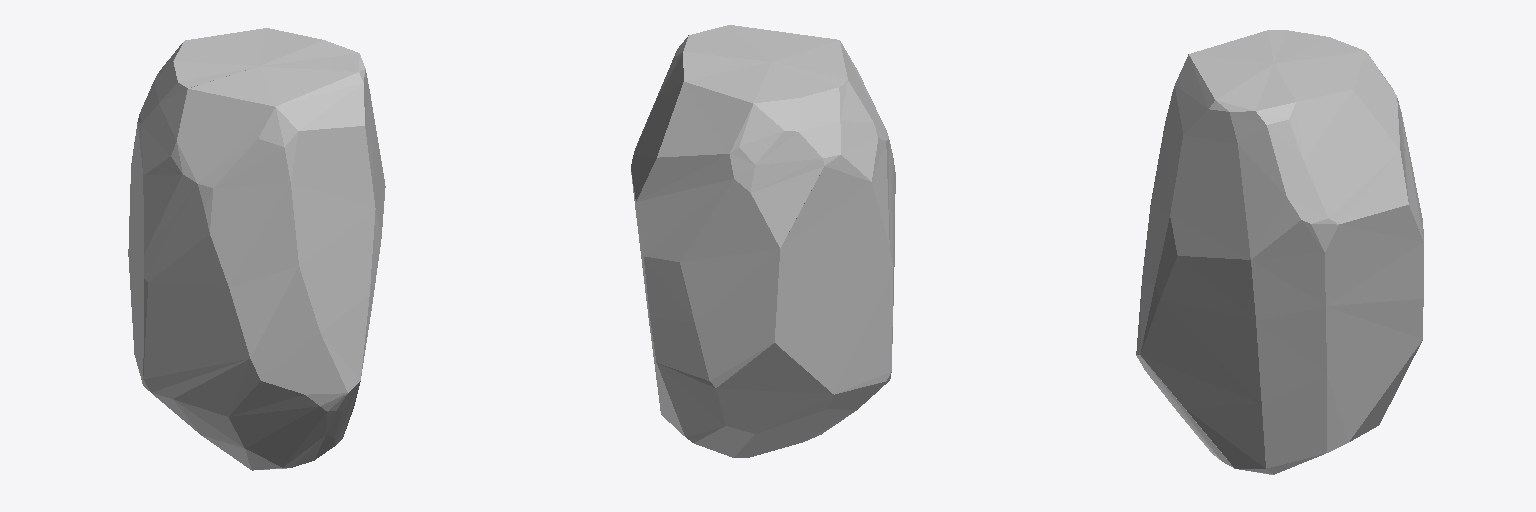
The model's file is rockLPUV.obj.
3 views of the same model, side by side, from view 1: azimuth 30°, elevation 25°; view 2: azimuth 150°, elevation 25°; view 3: azimuth 270°, elevation 25° (orthographic).
Visible parts, largest first — view 1: RetopoGroup1; view 2: RetopoGroup1; view 3: RetopoGroup1.
Boxes of the visible parts, box(x1,y1,x2,y2) form: RetopoGroup1: box(128, 28, 385, 470); RetopoGroup1: box(631, 25, 895, 457); RetopoGroup1: box(1136, 30, 1423, 474).
Bounding box in the file's own units: 15.49 × 23.95 × 16.27.